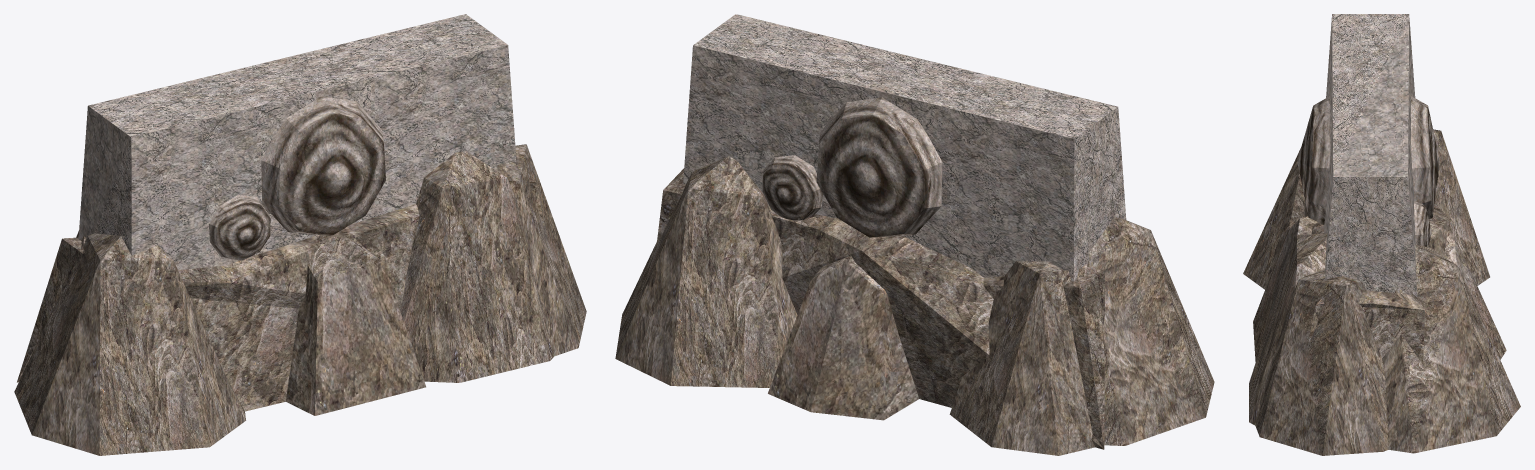
File: thm_dath_mtn_clan_strong_fence_s01_l2.fbx
3 renders of one model, left to right at view 1: azimuth 30°, elevation 25°; view 2: azimuth 150°, elevation 25°; view 3: azimuth 270°, elevation 25°, orthographic. The views are drawn at different scales.
Parts seen in each view (by area): view 1: mesh_node; view 2: mesh_node; view 3: mesh_node.
Part boxes in pixels (x1=…): mesh_node: x1=14, y1=14, x2=586, y2=455; mesh_node: x1=615, y1=14, x2=1214, y2=455; mesh_node: x1=1243, y1=14, x2=1520, y2=455.
Bounding box in the file's own units: 11.15 × 5.49 × 5.59.
